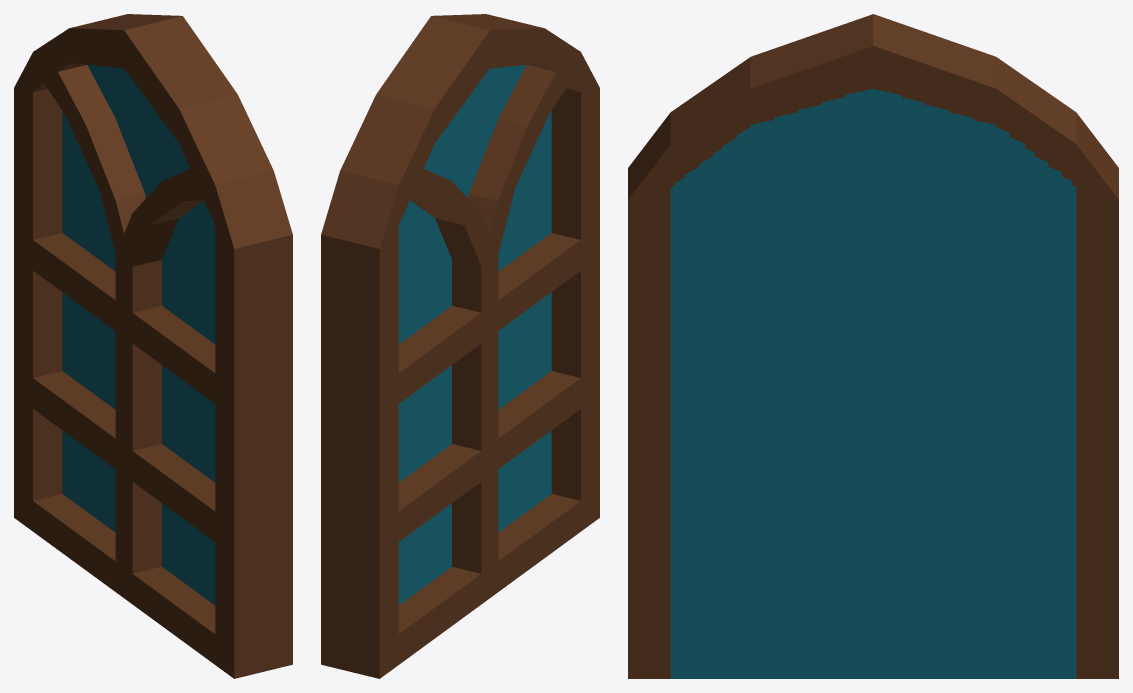
The model's file is Window.gltf.
The picture shows the model from 3 angles, left to right: view 1: azimuth 30°, elevation 25°; view 2: azimuth 150°, elevation 25°; view 3: azimuth 270°, elevation 25°; orthographic projection. The views are drawn at different scales.
Parts seen in each view (by area): view 1: Window, Brace; view 2: Window, Brace; view 3: Window.
Part boxes in pixels (x1,y1,x2,y2): Window: [14, 14, 292, 678]; Brace: [33, 65, 217, 664]; Window: [321, 14, 599, 678]; Brace: [396, 57, 582, 664]; Window: [628, 14, 1118, 678].
Bounding box in the file's own units: 0.25 × 2.31 × 1.62.
Materials: 2 (2 with a texture image).
